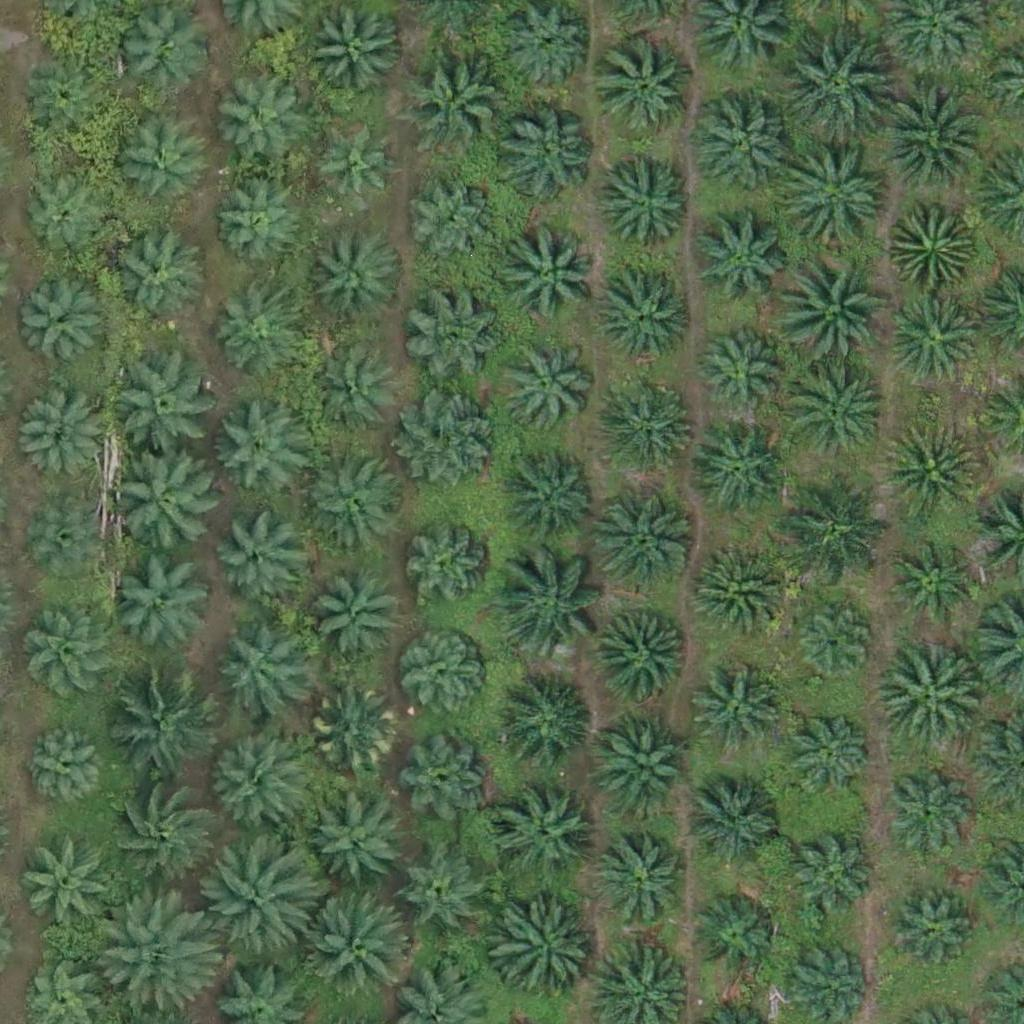Kelapa_Sawit: (107, 448, 220, 562), (497, 552, 610, 665), (782, 468, 895, 581), (782, 143, 895, 256), (781, 27, 894, 140), (206, 848, 318, 962), (107, 672, 219, 786), (871, 640, 983, 753), (303, 894, 415, 1007), (99, 892, 211, 1005), (103, 779, 215, 892), (781, 357, 893, 470), (776, 247, 888, 360), (874, 79, 986, 192), (685, 542, 785, 643), (687, 771, 787, 872), (497, 675, 597, 776), (493, 787, 593, 888), (493, 903, 593, 1004), (308, 792, 408, 893), (119, 553, 219, 654), (18, 837, 118, 938), (104, 231, 204, 332), (119, 356, 219, 457), (209, 68, 309, 169), (303, 451, 403, 552), (304, 2, 404, 103), (404, 46, 504, 147), (403, 284, 503, 385), (401, 388, 501, 489), (504, 223, 604, 324), (497, 338, 597, 439), (501, 447, 601, 548), (595, 490, 695, 591), (594, 266, 694, 367), (596, 37, 696, 138), (687, 210, 787, 311), (690, 422, 790, 523), (880, 421, 980, 522), (592, 609, 692, 709), (593, 714, 693, 814), (202, 735, 302, 835), (210, 394, 310, 494), (494, 105, 594, 205), (602, 377, 702, 477), (597, 153, 697, 253), (691, 92, 791, 192), (20, 723, 108, 812), (793, 599, 881, 687), (782, 706, 870, 794), (786, 834, 874, 922), (881, 884, 969, 972), (695, 667, 783, 755), (212, 513, 300, 601), (213, 629, 301, 717), (28, 613, 116, 701), (26, 59, 114, 147), (117, 7, 205, 95), (113, 119, 201, 207), (211, 184, 299, 272), (313, 228, 401, 316), (408, 178, 496, 266), (891, 291, 979, 379), (887, 542, 975, 630), (307, 121, 394, 210), (883, 767, 970, 855), (691, 889, 778, 977), (600, 833, 687, 921), (403, 527, 490, 615), (400, 636, 487, 724), (403, 735, 490, 823), (400, 852, 487, 940), (310, 688, 397, 776), (309, 573, 396, 661), (22, 176, 109, 264), (21, 285, 108, 373), (18, 393, 105, 481), (210, 291, 297, 379), (308, 349, 395, 437), (697, 324, 784, 412), (889, 199, 976, 287), (32, 503, 107, 579)
